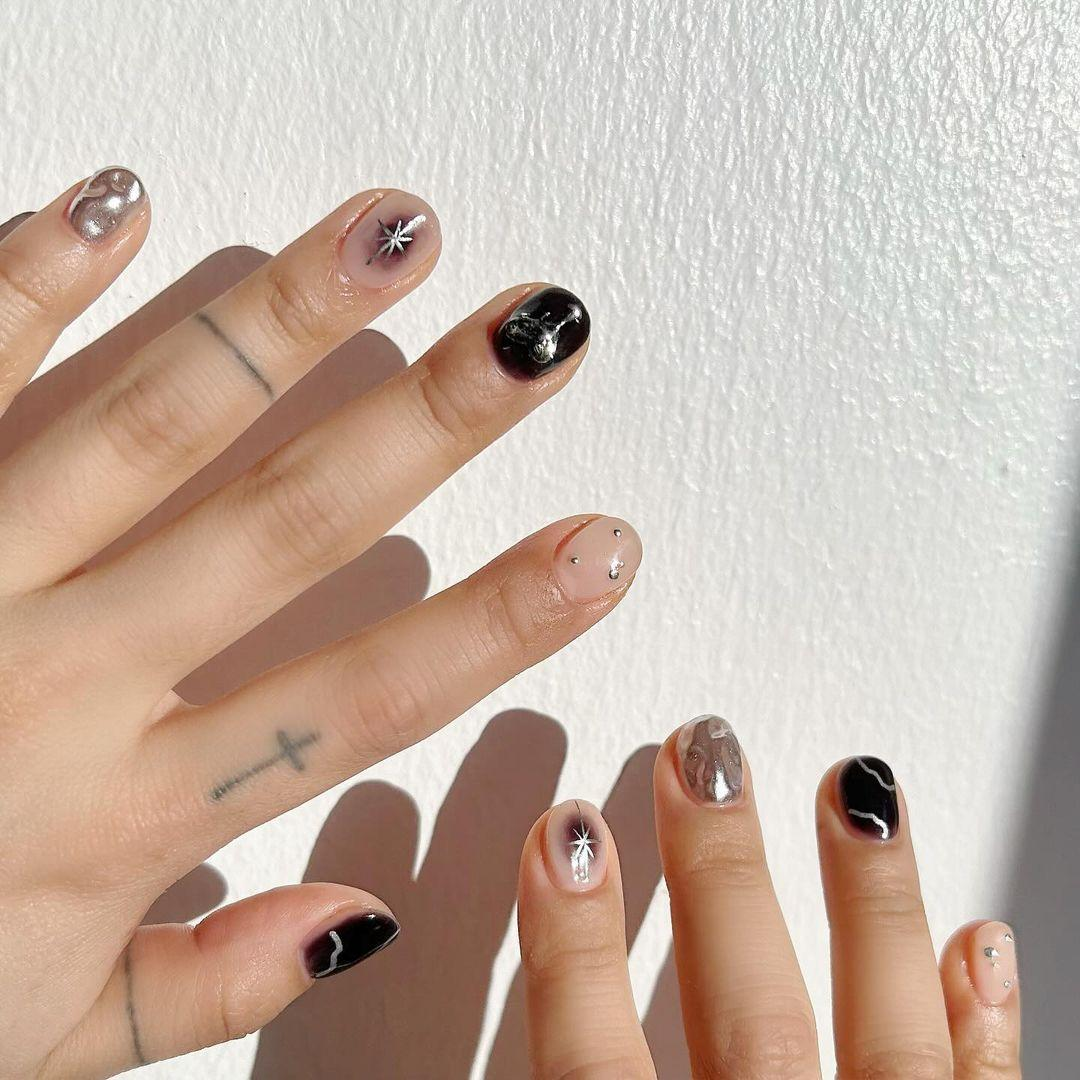nail: (491, 283, 590, 381), (339, 192, 440, 288), (552, 513, 642, 604), (301, 906, 399, 980), (542, 798, 614, 894), (672, 713, 745, 807), (65, 164, 145, 243), (833, 754, 899, 841), (964, 919, 1017, 1006)
